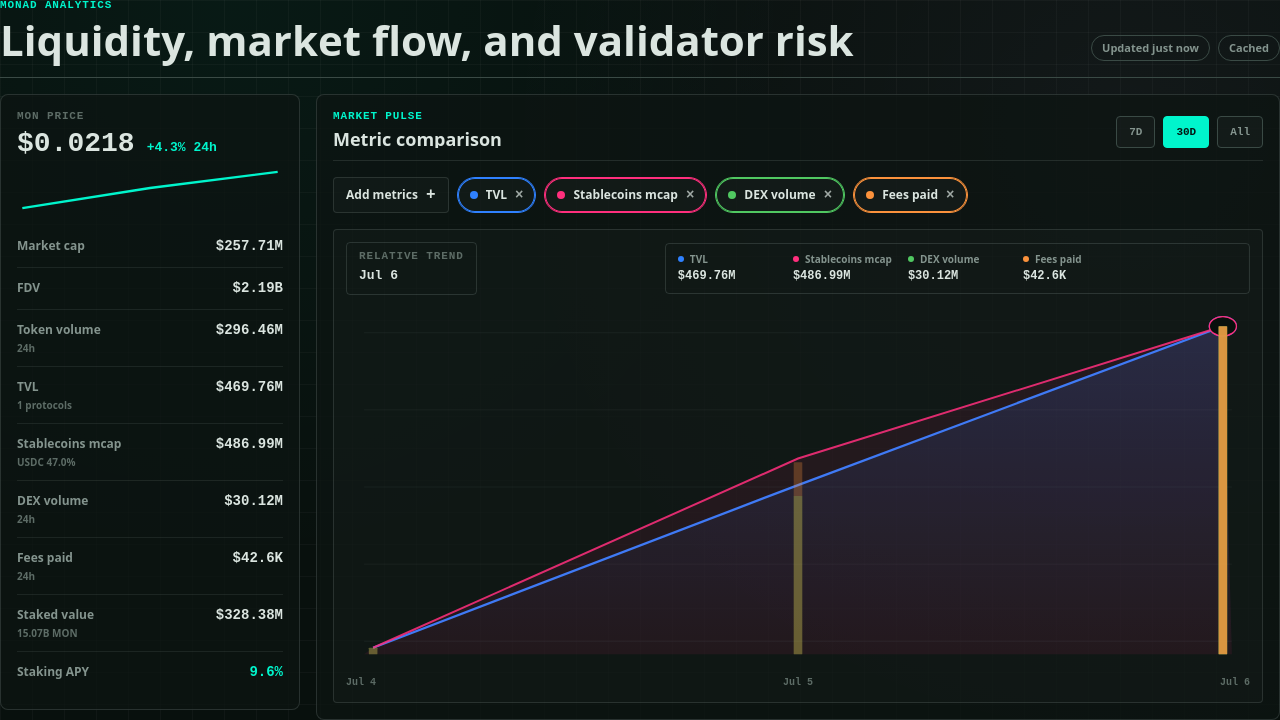
Test: AnalyticsDashboard metric picker › stays open while toggling metrics and updates the selected pills
Click the button "Add metrics +" at (391, 195), box [333,177,448,213]
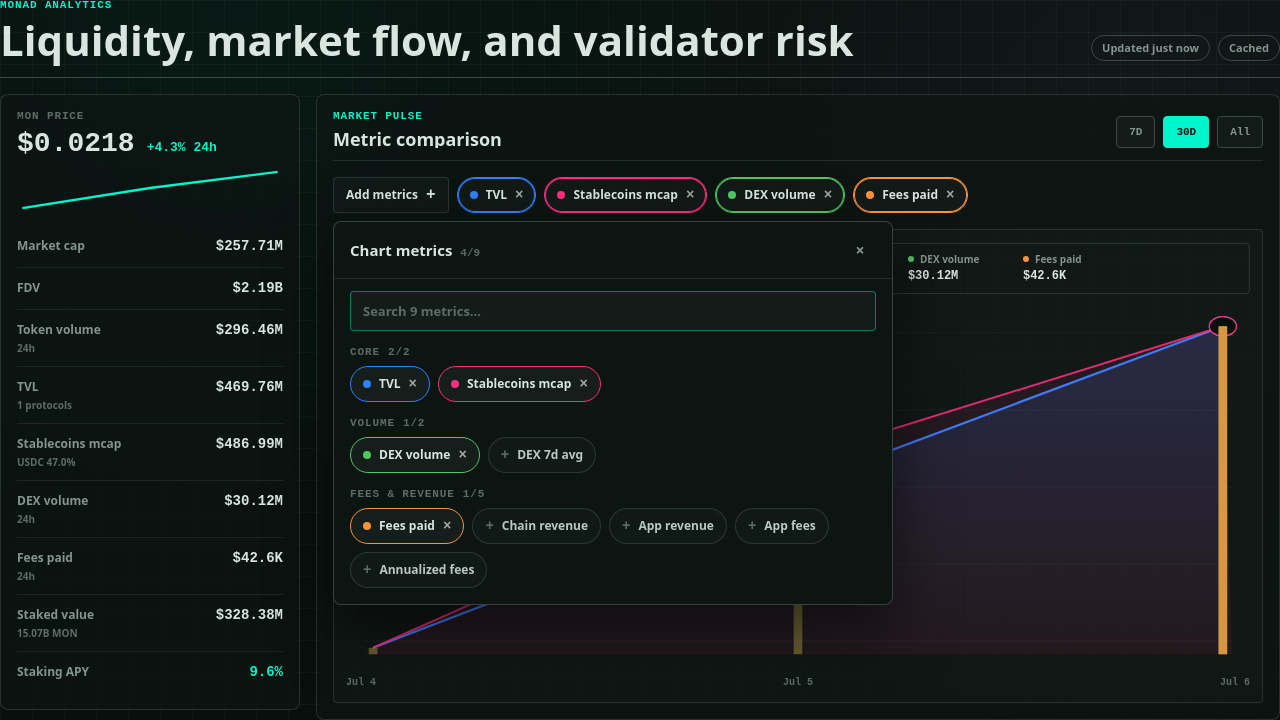
Click the button "+ App fees" at (782, 526), box [735,508,829,544]
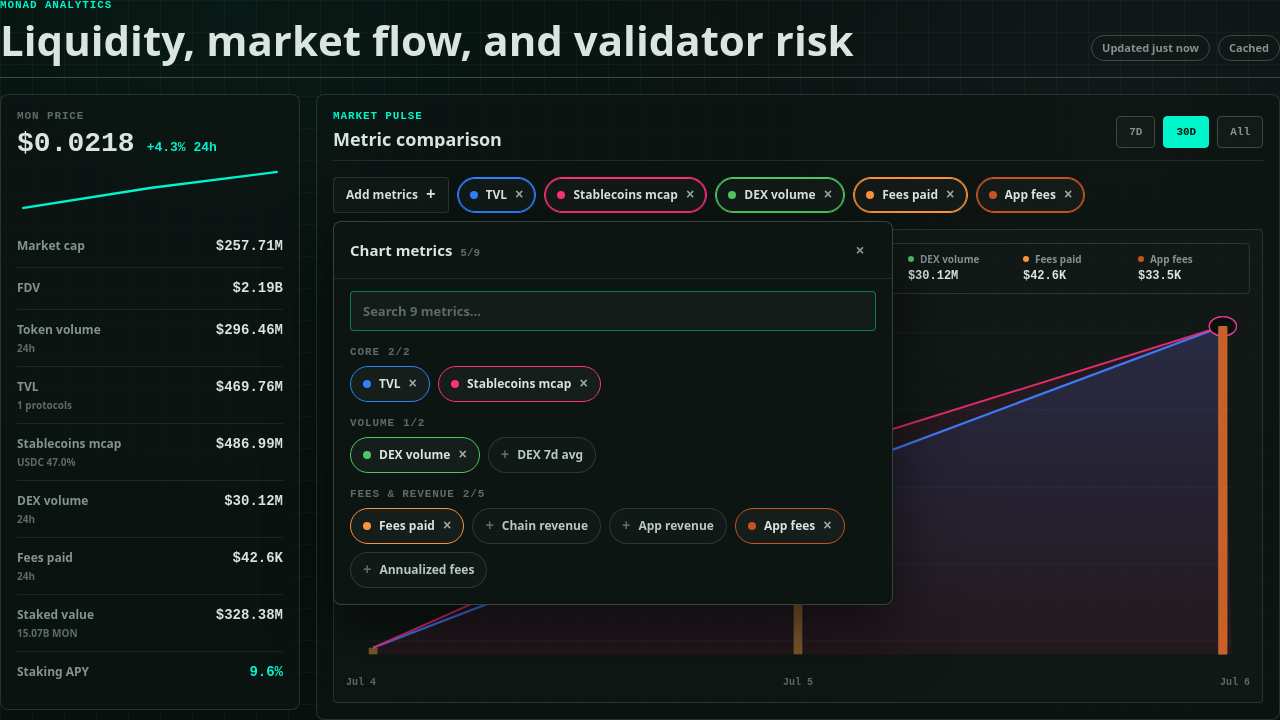
Expected: the dialog "Chart metrics" is shown, [333,221,893,605]
Expected: the button with aria-label "Remove App fees from chart" is shown, [976,177,1085,213]
